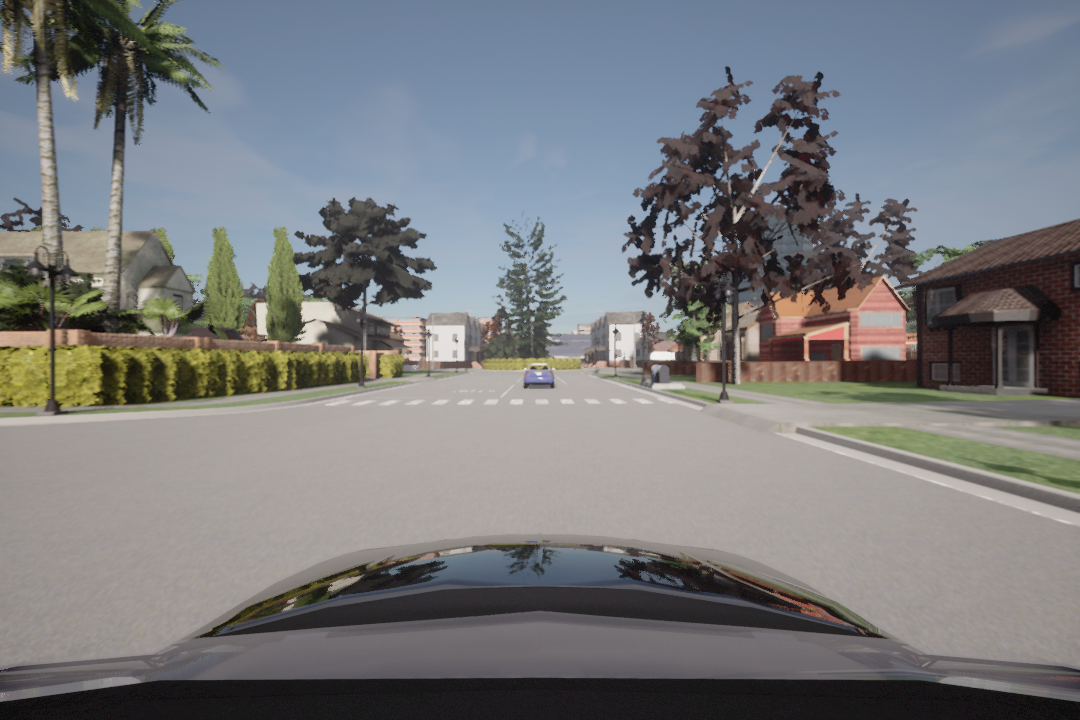walkside: (321, 394, 676, 411)
